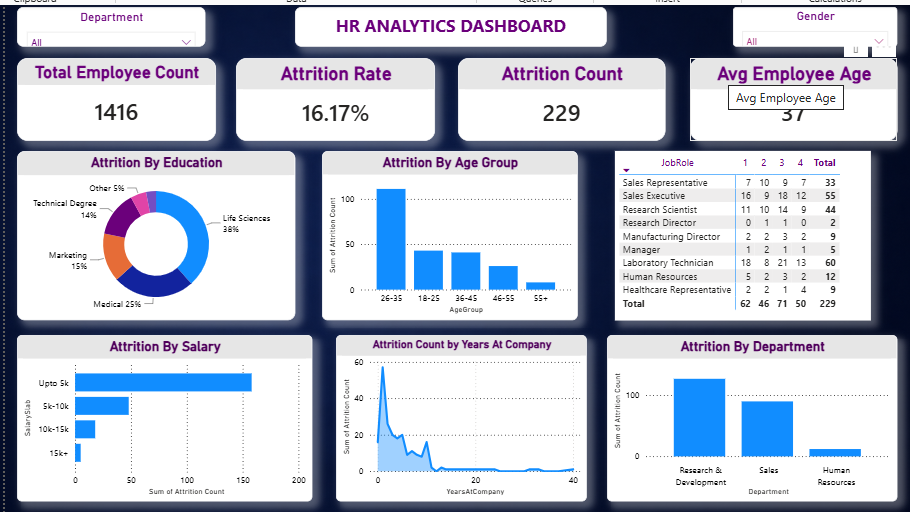

Layout of this report page (visuals, bound fields, positions):
{"tool":"powerbi","page":{"name":"Page 1","canvas":[1280,720],"ordinal":0},"visuals":[{"type":"cardVisual","title":"Total Employee Count","fields":{"Data":["Sum(HR_Analytics.EmployeeCount)"]},"box":[16.9,74.8,280.9,117.2],"z":0},{"type":"cardVisual","title":"Attrition Rate","fields":{"Data":["HR_Analytics.Attrition Rate"]},"box":[326.8,74.5,281.1,116.8],"z":1000},{"type":"cardVisual","title":"Attrition Count","fields":{"Data":["Sum(HR_Analytics.Attrition Count)"]},"box":[640,74.5,292.9,116.8],"z":2000},{"type":"cardVisual","title":"Avg Employee Age","fields":{"Data":["Avg(HR_Analytics.Age)"]},"box":[966.8,74.5,292.9,116.8],"z":3000},{"type":"donutChart","title":"Attrition By Education","fields":{"Category":["HR_Analytics.EducationField"],"Y":["Sum(HR_Analytics.Attrition Count)"]},"box":[16.9,206.6,392.8,238.7],"z":4000},{"type":"clusteredColumnChart","title":"Attrition By Age Group","fields":{"Y":["Sum(HR_Analytics.Attrition Count)"],"Category":["HR_Analytics.AgeGroup"]},"box":[447,206.6,360.6,238.7],"z":5000},{"type":"clusteredBarChart","title":"Attrition By Salary","fields":{"Category":["HR_Analytics.SalarySlab"],"Y":["Sum(HR_Analytics.Attrition Count)"]},"box":[16.9,465.6,416.5,235.3],"z":6000},{"type":"pivotTable","fields":{"Rows":["HR_Analytics.JobRole"],"Columns":["HR_Analytics.JobSatisfaction"],"Values":["Sum(HR_Analytics.Attrition Count)"]},"box":[861.8,206.6,360.6,238.7],"z":7000},{"type":"areaChart","title":"Attrition Count by Years At Company","fields":{"Category":["HR_Analytics.YearsAtCompany"],"Y":["Sum(HR_Analytics.Attrition Count)"]},"box":[467.3,465.6,353.9,235.3],"z":8000},{"type":"clusteredColumnChart","title":"Attrition By Department","fields":{"Y":["Sum(HR_Analytics.Attrition Count)"],"Category":["HR_Analytics.Department"]},"box":[849.9,465.6,409.7,235.3],"z":9000},{"type":"textbox","box":[409.7,3.4,440.2,55.9],"z":10000},{"type":"slicer","title":"Gender","fields":{"Values":["HR_Analytics.Gender"]},"box":[1027.7,3.4,232,55.9],"z":11000},{"type":"slicer","title":"Department","fields":{"Values":["HR_Analytics.Department"]},"box":[16.9,3.4,265.8,55.9],"z":12000}]}

Visuals, with their boxes in screenshot pixels (x1, y1, x2, y2):
"Total Employee Count" cardVisual: bbox=(19, 57, 216, 139)
"Attrition Rate" cardVisual: bbox=(236, 57, 433, 139)
"Attrition Count" cardVisual: bbox=(456, 57, 661, 139)
"Avg Employee Age" cardVisual: bbox=(685, 57, 890, 139)
"Attrition By Education" donutChart: bbox=(19, 150, 294, 317)
"Attrition By Age Group" clusteredColumnChart: bbox=(321, 150, 573, 317)
"Attrition By Salary" clusteredBarChart: bbox=(19, 331, 311, 496)
pivotTable - HR_Analytics.JobRole x HR_Analytics.JobSatisfaction: bbox=(611, 150, 864, 317)
"Attrition Count by Years At Company" areaChart: bbox=(335, 331, 583, 496)
"Attrition By Department" clusteredColumnChart: bbox=(603, 331, 890, 496)
textbox: bbox=(294, 7, 603, 46)
"Gender" slicer: bbox=(728, 7, 890, 46)
"Department" slicer: bbox=(19, 7, 205, 46)
